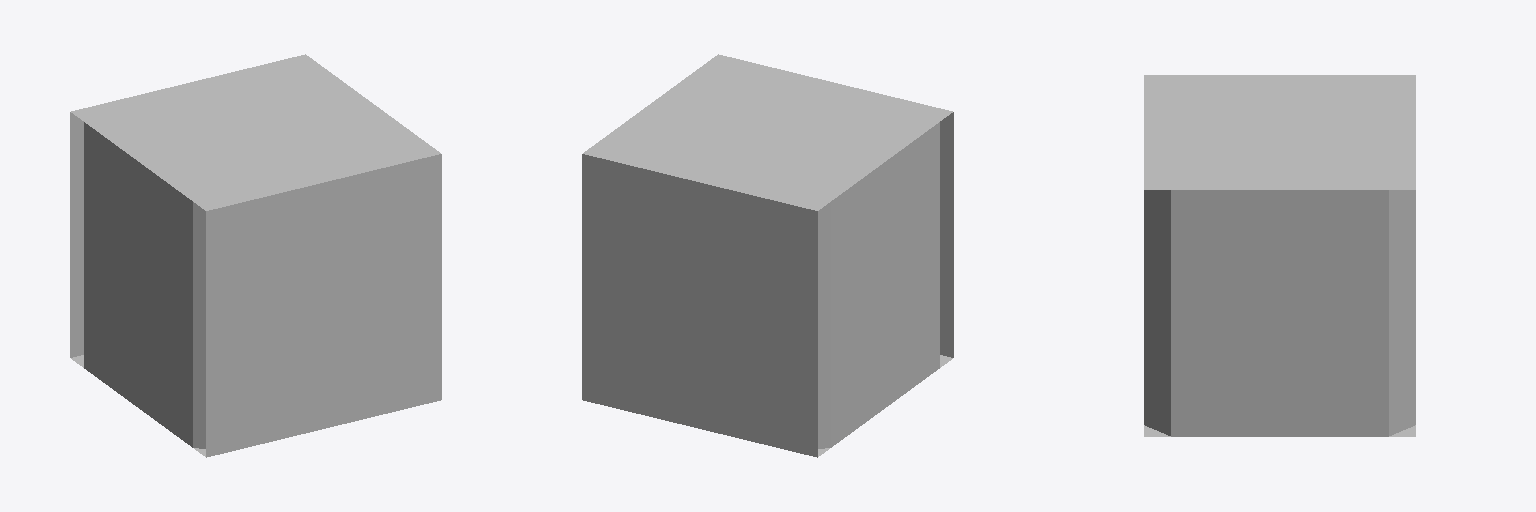
File: planet_gate.obj
3 views of the same model, side by side, from view 1: azimuth 30°, elevation 25°; view 2: azimuth 150°, elevation 25°; view 3: azimuth 270°, elevation 25° (orthographic).
Visible parts, largest first — view 1: Plane.002; view 2: Plane.002; view 3: Plane.002.
Part boxes in pixels (bbox=[...]): Plane.002: bbox=[70, 54, 441, 457]; Plane.002: bbox=[582, 54, 953, 457]; Plane.002: bbox=[1144, 75, 1415, 436].
Size of the model in its own units: 1 by 1 by 1.